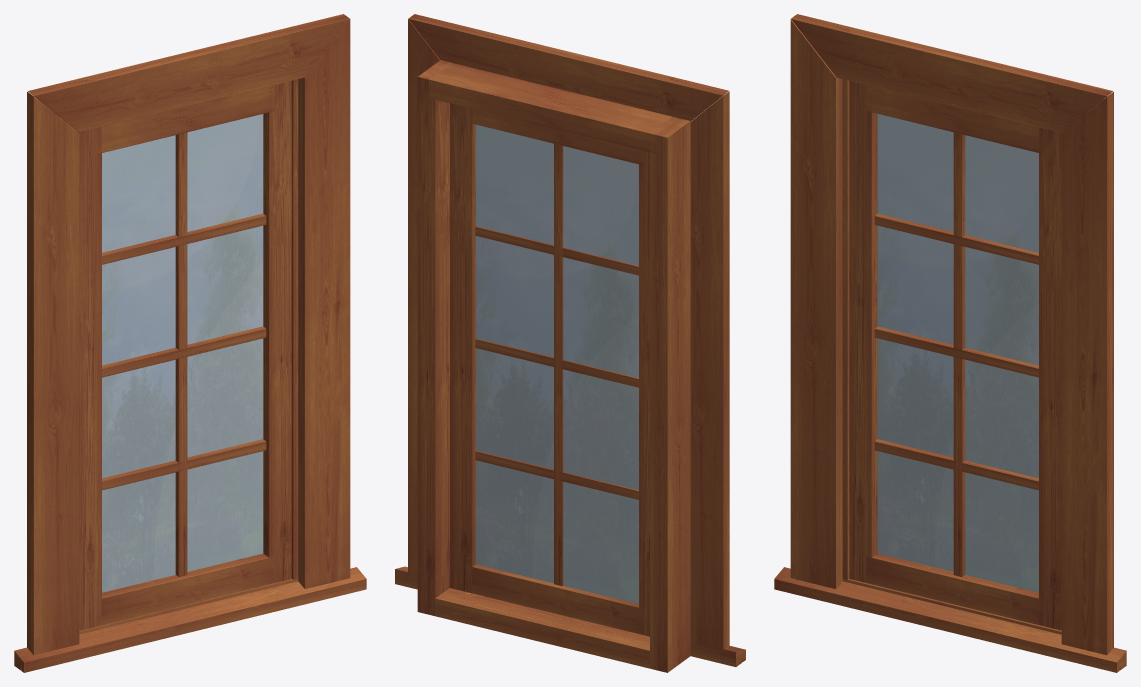
3 renders of one model, left to right at view 1: azimuth 30°, elevation 25°; view 2: azimuth 150°, elevation 25°; view 3: azimuth 330°, elevation 25°, orthographic.
Parts seen in each view (by area): view 1: glass001, trim_left, trim_right, trim_top, window_right001, window_left001, sill, window_bottom001, muttin_vertical001, window_top001, box_right, muttin_horizontal003 (+2 smaller); view 2: glass001, box_left, trim_left, box_right, window_right001, trim_top, box_top, sill, trim_right, window_bottom001, window_left001, muttin_vertical001 (+4 smaller); view 3: glass001, trim_right, trim_left, trim_top, window_left001, window_right001, sill, window_bottom001, muttin_vertical001, window_top001, box_left, muttin_horizontal003 (+2 smaller).
Part boxes in pixels (left/top/right/bottom): glass001: left=102, top=114, right=263, bottom=592; trim_left: left=27, top=92, right=79, bottom=655; trim_right: left=298, top=19, right=350, bottom=588; trim_top: left=27, top=14, right=349, bottom=132; window_right001: left=263, top=81, right=291, bottom=582; window_left001: left=78, top=127, right=101, bottom=630; sill: left=14, top=567, right=366, bottom=672; window_bottom001: left=96, top=553, right=274, bottom=626; muttin_vertical001: left=175, top=132, right=187, bottom=576; window_top001: left=96, top=85, right=274, bottom=153; box_right: left=291, top=79, right=298, bottom=579; muttin_horizontal003: left=102, top=213, right=266, bottom=264; glass001: left=476, top=124, right=638, bottom=603; box_left: left=650, top=117, right=690, bottom=672; trim_left: left=690, top=91, right=729, bottom=650; box_right: left=417, top=60, right=452, bottom=615; window_right001: left=450, top=103, right=475, bottom=593; trim_top: left=408, top=14, right=728, bottom=121; box_top: left=429, top=63, right=678, bottom=153; sill: left=395, top=566, right=745, bottom=668; trim_right: left=408, top=19, right=439, bottom=576; window_bottom001: left=472, top=564, right=644, bottom=634; window_left001: left=639, top=150, right=649, bottom=636; muttin_vertical001: left=554, top=143, right=563, bottom=586; glass001: left=877, top=114, right=1038, bottom=592; trim_right: left=1061, top=92, right=1113, bottom=655; trim_left: left=790, top=19, right=842, bottom=588; trim_top: left=791, top=14, right=1113, bottom=132; window_left001: left=849, top=81, right=877, bottom=583; window_right001: left=1039, top=127, right=1062, bottom=630; sill: left=774, top=567, right=1126, bottom=672; window_bottom001: left=866, top=553, right=1044, bottom=624; muttin_vertical001: left=953, top=132, right=965, bottom=576; window_top001: left=866, top=85, right=1044, bottom=153; box_left: left=842, top=79, right=849, bottom=579; muttin_horizontal003: left=874, top=213, right=1038, bottom=264.
Bounding box in the file's own units: 30 × 47.81 × 5.
Materials: 7 (7 with a texture image).
